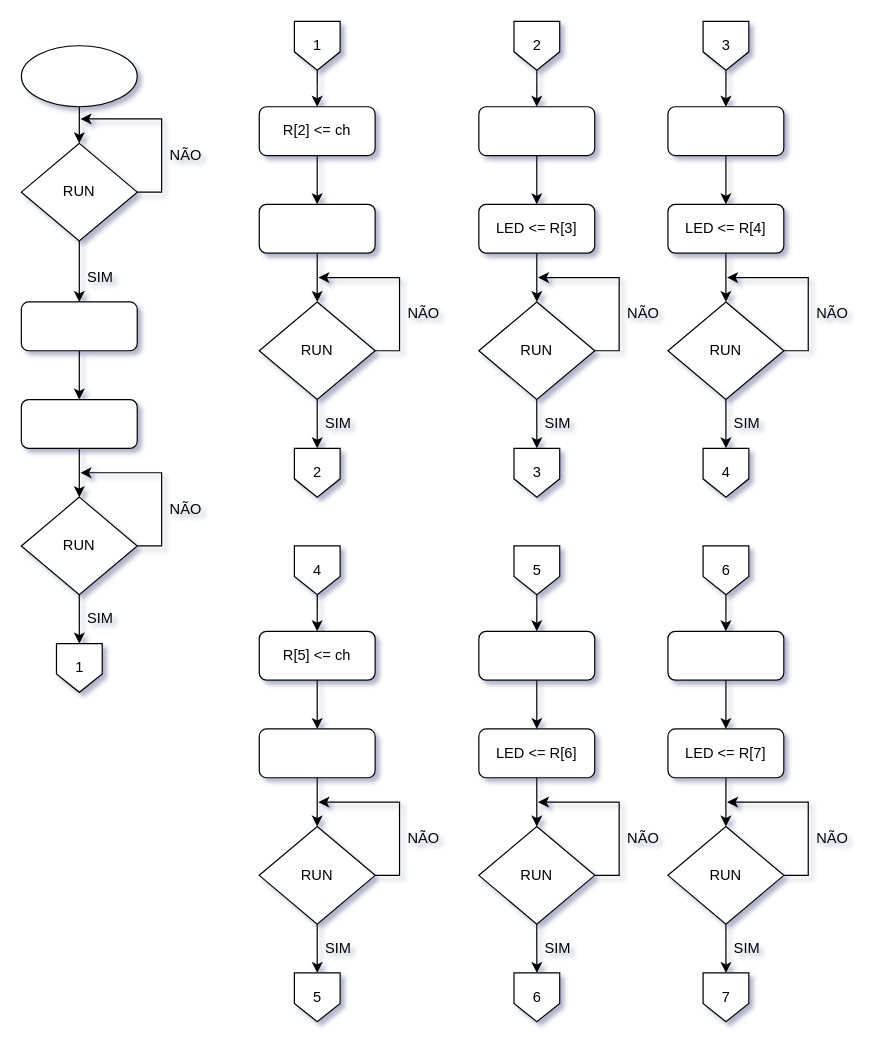
Some shapes in this 886 by 1050 pixel diagram are drawn without their labels. Here are the shapes that lost their labels. From the top down, the centre of each, then its label:
At [78,76]: "Início".
At [536,131]: "R[3] <= ch".
At [725,131]: "R[4] <= ch".
At [316,228]: "LED <= R[2]".
At [78,326]: "R[1] <= ch".
At [78,423]: "LED <= R[1]".
At [536,655]: "R[6] <= ch".
At [725,655]: "R[7] <= ch".
At [316,753]: "LED <= R[5]".
